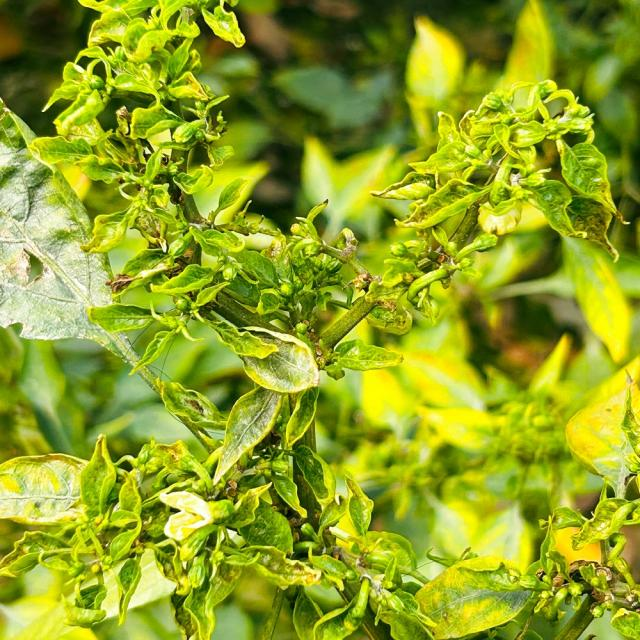Chilli_Leaf_Curl: (0, 0, 638, 638), (369, 76, 629, 322), (0, 111, 159, 371), (237, 326, 320, 394)
